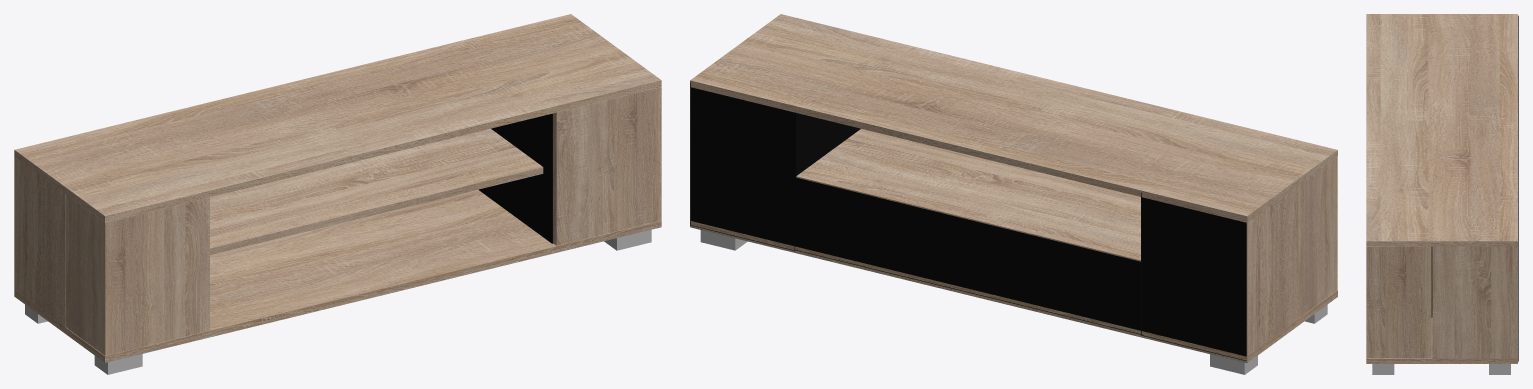
File: tv_cabinet.glb
3 renders of one model, left to right at view 1: azimuth 30°, elevation 25°; view 2: azimuth 150°, elevation 25°; view 3: azimuth 270°, elevation 25°, orthographic. The views are drawn at different scales.
Parts seen in each view (by area): view 1: TV cabinet; view 2: TV cabinet; view 3: TV cabinet.
Boxes of the visible parts, x1,y1,x2,y2 form: TV cabinet: (14,14,661,374); TV cabinet: (690,14,1337,374); TV cabinet: (1366,14,1518,374).
Size of the model in its own units: 1.59 by 0.4465 by 0.4529.
Materials: 5 (2 with a texture image).
